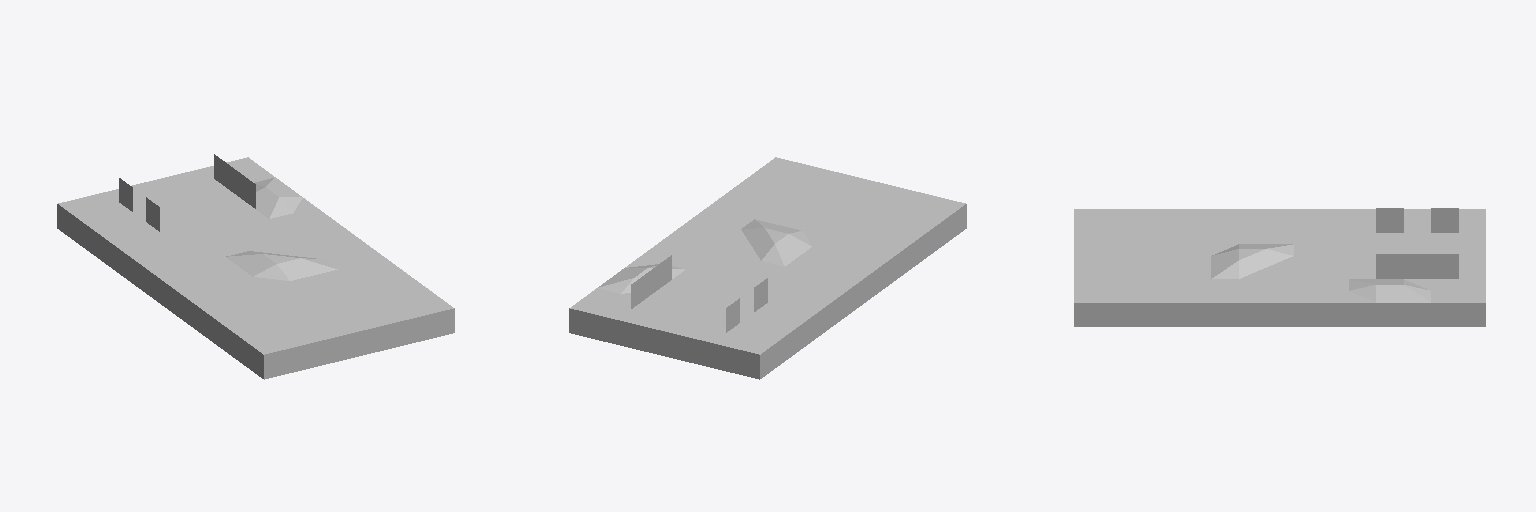
File: bumpypath.obj
The picture shows the model from 3 angles: view 1: azimuth 30°, elevation 25°; view 2: azimuth 150°, elevation 25°; view 3: azimuth 270°, elevation 25°; orthographic projection.
Parts seen in each view (by area): view 1: Cube; view 2: Cube; view 3: Cube.
Part boxes in pixels (x1,y1,x2,y2): Cube: (57, 154, 454, 379); Cube: (569, 157, 966, 379); Cube: (1074, 208, 1485, 326).
Bounding box in the file's own units: 4 × 1 × 7.5.